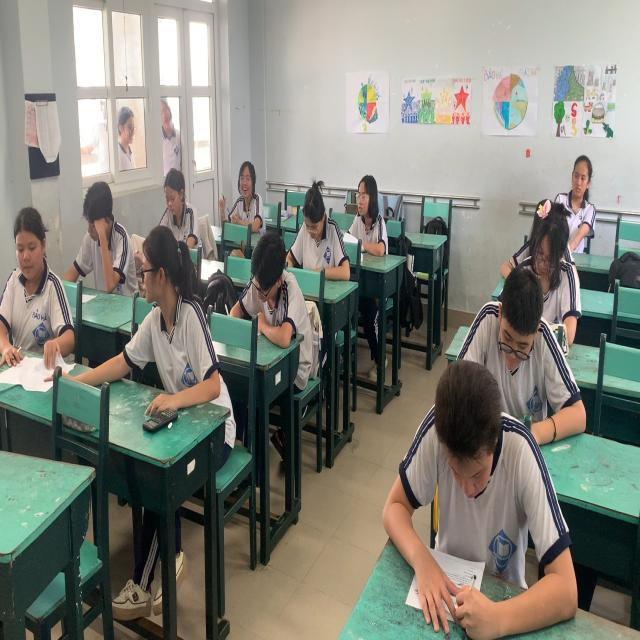cheating: (117, 220, 227, 458), (0, 186, 81, 373)
not_cheating: (379, 356, 586, 524), (460, 265, 581, 468), (226, 193, 325, 392), (66, 135, 158, 317), (498, 154, 574, 330), (279, 149, 365, 302), (329, 130, 414, 280), (136, 134, 222, 276), (201, 103, 282, 242), (561, 107, 602, 286)
